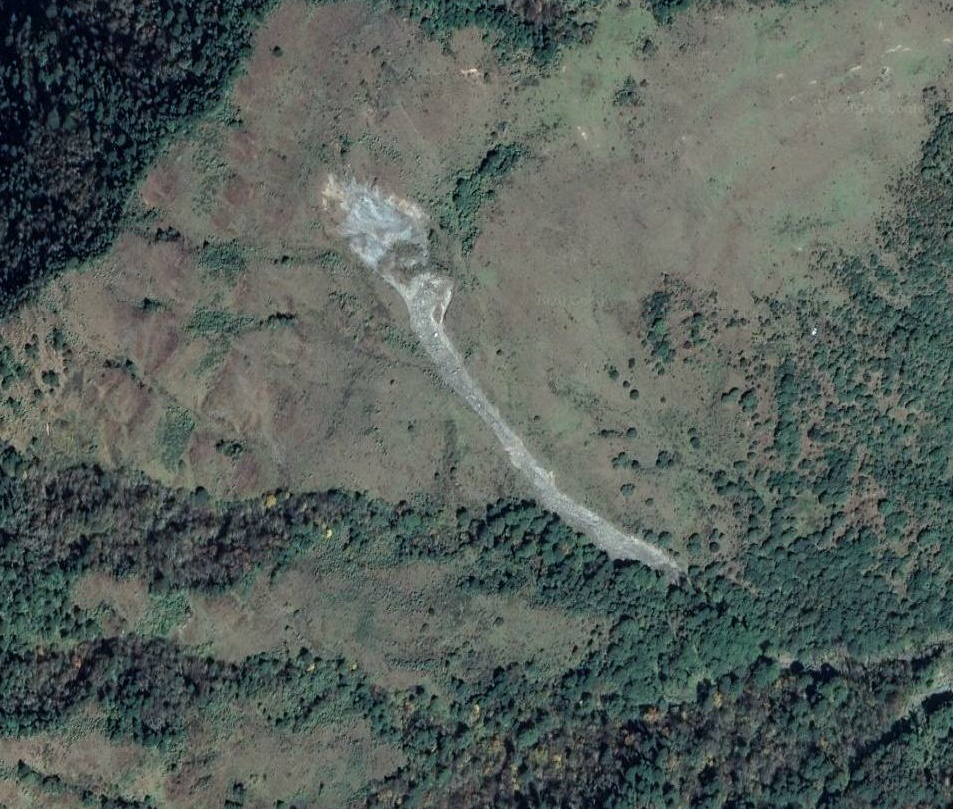slope: (317, 175, 677, 577)
